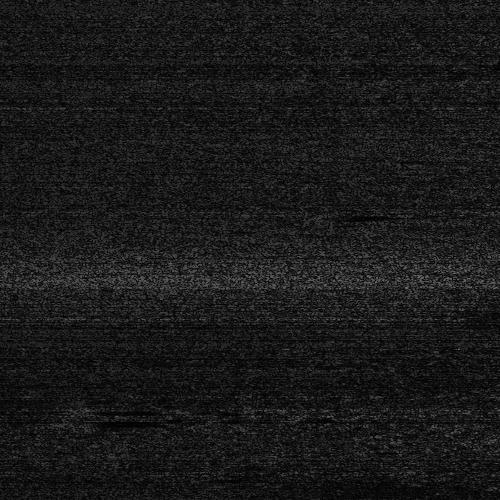rock: (40, 416, 113, 425), (316, 211, 379, 216)
shadow: (77, 416, 160, 425), (348, 211, 390, 216)
